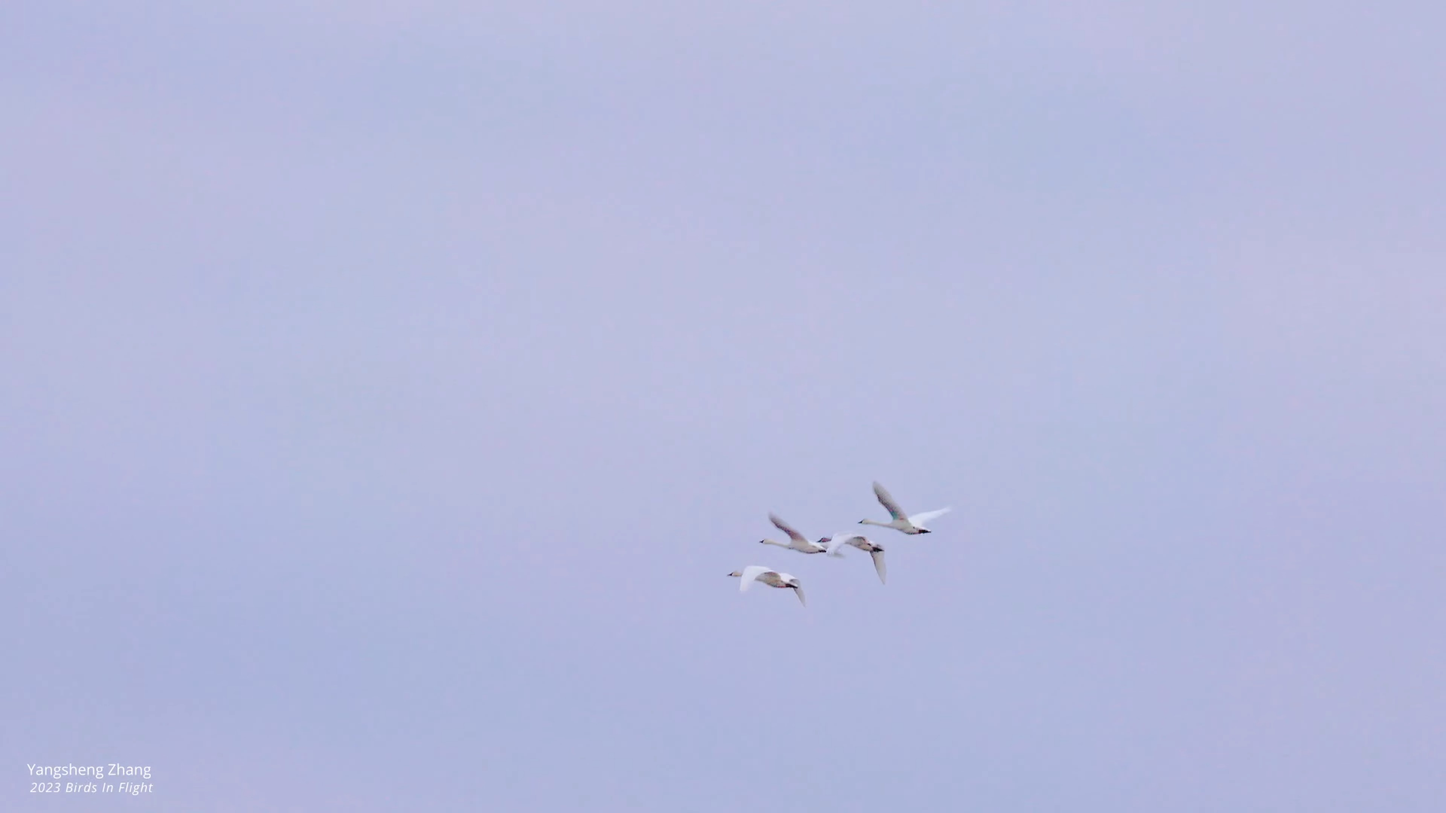not_drone: (850, 477, 951, 541), (825, 526, 902, 590), (751, 507, 839, 559), (720, 564, 813, 606)
